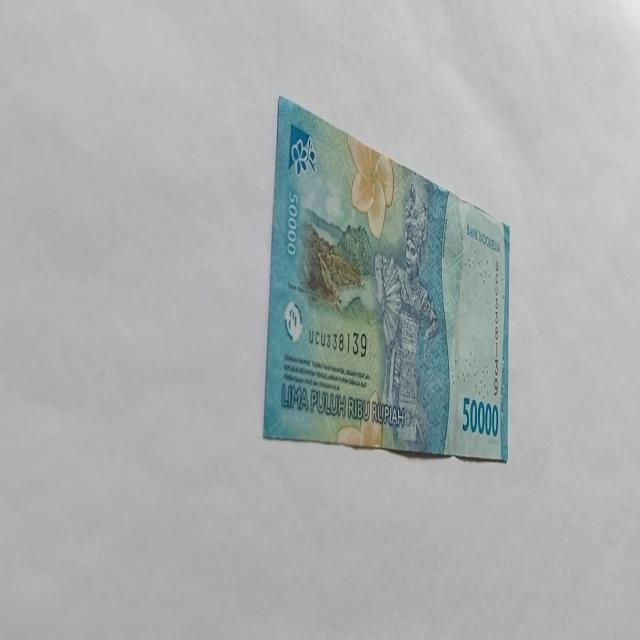lima puluh ribu rupiah: (262, 94, 510, 463)
